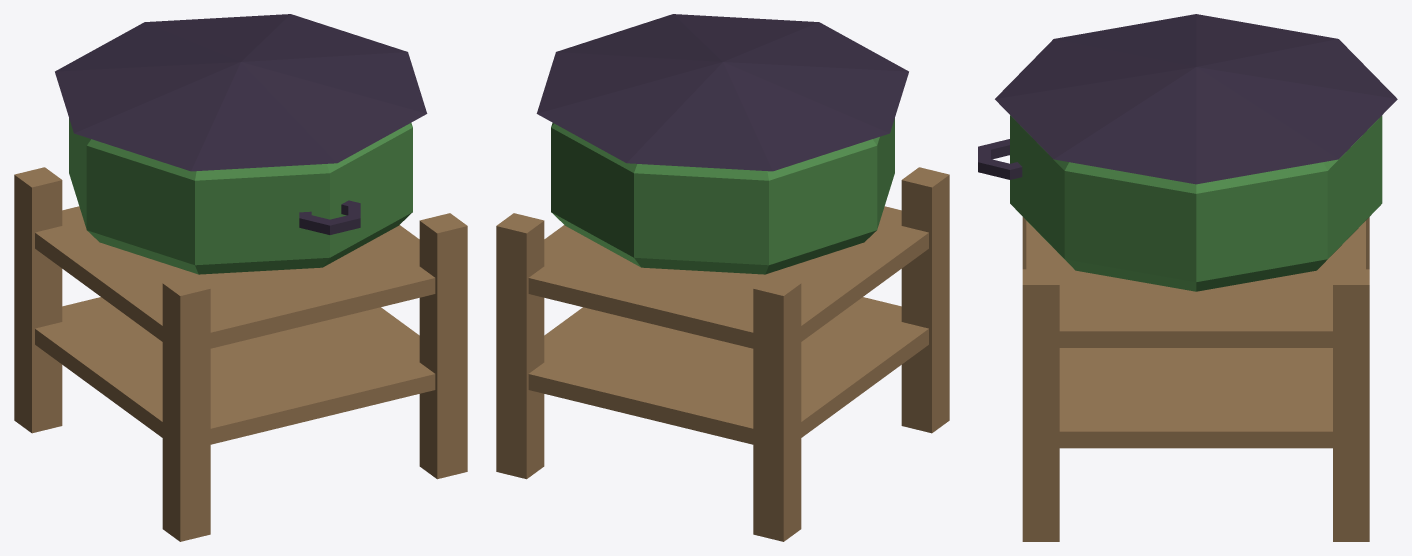
Rendered from wildwest-g1.glb.
The picture shows the model from 3 angles, left to right: view 1: azimuth 30°, elevation 25°; view 2: azimuth 150°, elevation 25°; view 3: azimuth 270°, elevation 25°; orthographic projection. The views are drawn at different scales.
Parts seen in each view (by area): view 1: wildwest-g1; view 2: wildwest-g1; view 3: wildwest-g1.
Boxes of the visible parts, x1,y1,x2,y2 form: wildwest-g1: (14, 14, 467, 541); wildwest-g1: (496, 14, 949, 541); wildwest-g1: (978, 14, 1397, 541).
Bounding box in the file's own units: 1.09 × 1.2 × 1.14.
